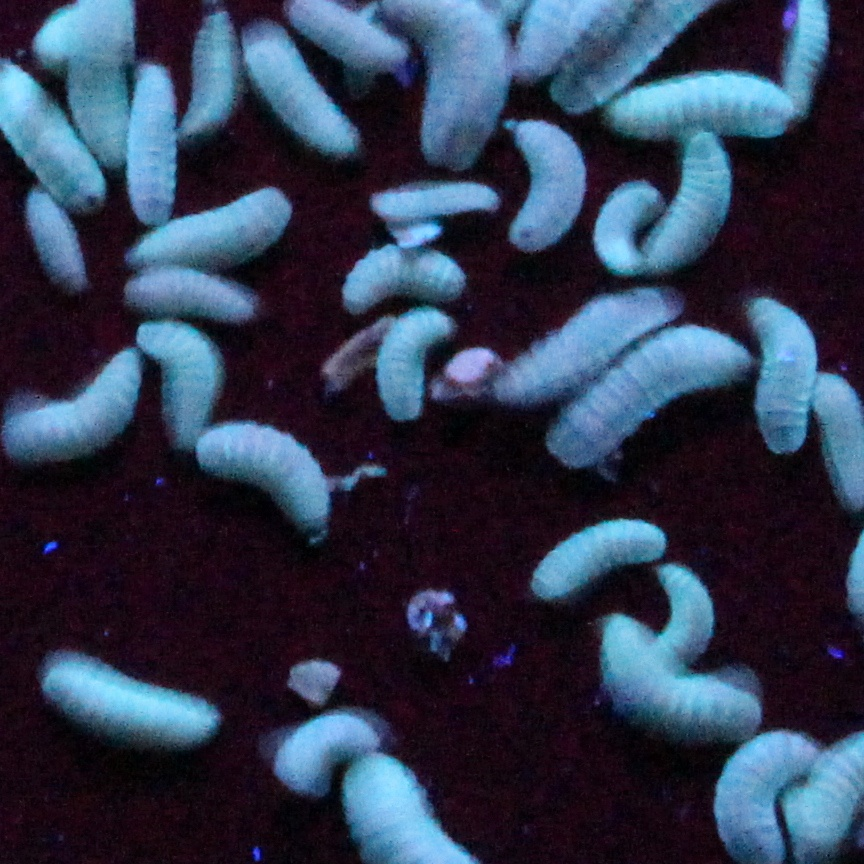larve: (556, 337, 745, 471), (487, 288, 667, 408), (593, 622, 765, 734), (59, 657, 205, 757), (202, 434, 347, 531), (130, 194, 293, 268), (10, 357, 139, 448), (253, 34, 359, 142), (530, 520, 670, 597), (139, 322, 222, 440), (122, 62, 182, 217), (653, 131, 713, 282), (173, 14, 245, 137), (367, 311, 447, 414), (342, 245, 473, 305), (759, 294, 805, 460), (262, 720, 382, 777), (510, 120, 562, 248), (365, 185, 496, 234), (133, 274, 256, 314), (33, 200, 87, 277)
